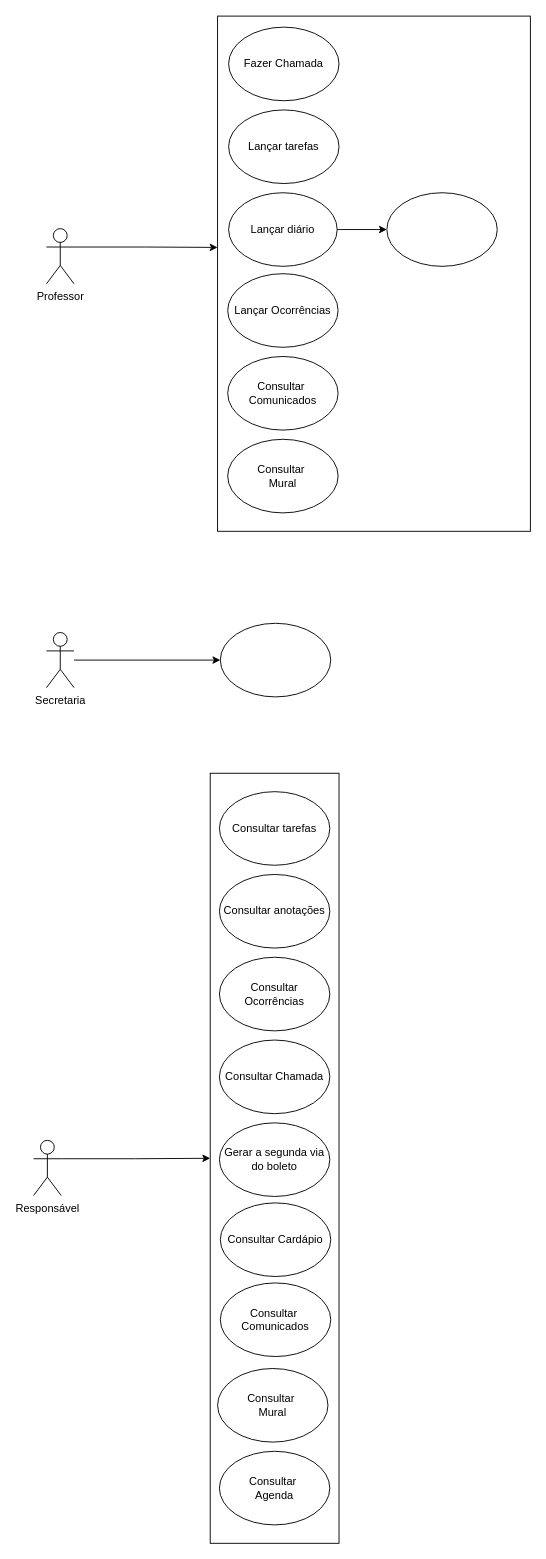
Some shapes in this 546 by 1559 pixel diagram are drawn without their labels. Each missing label, with the centre of its shape:
"Autorizar envio de ocorrências e anotações" goes at [275,659].
"Lançar anotações" goes at [441,229].
